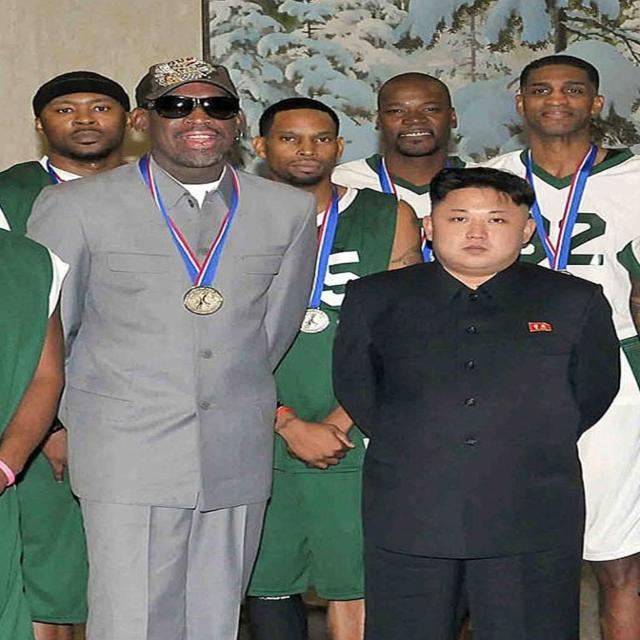body: (15, 53, 330, 640), (323, 159, 625, 639), (460, 54, 639, 639), (242, 96, 428, 638), (329, 71, 498, 265), (0, 219, 70, 639), (0, 69, 134, 225)
